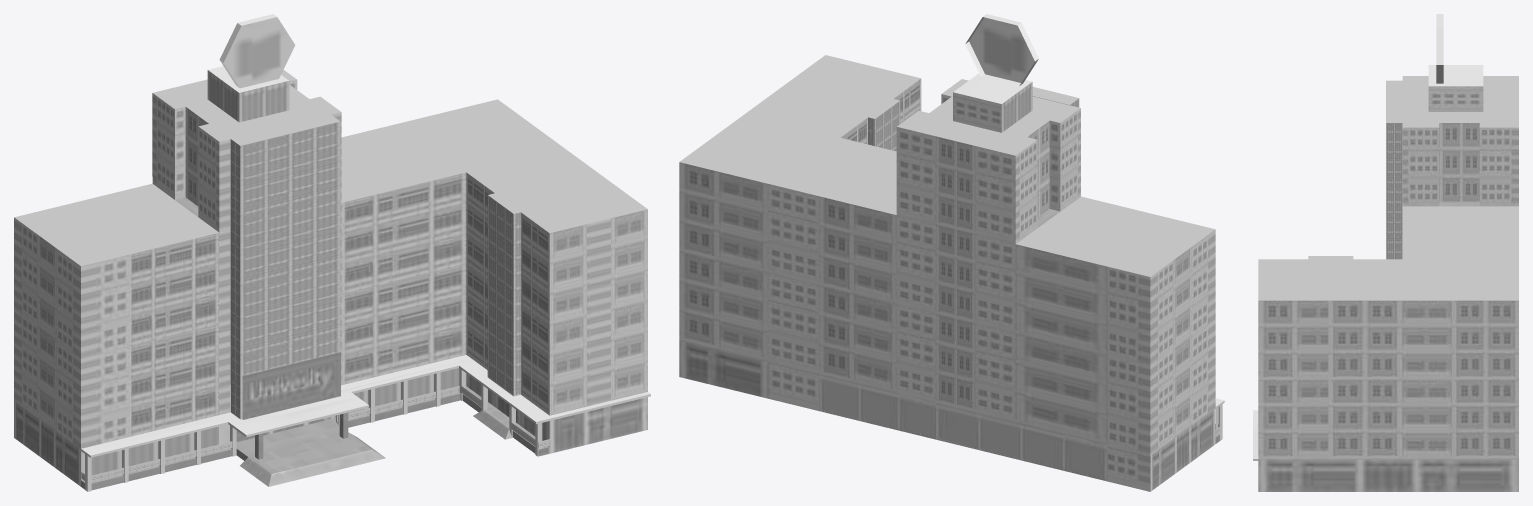
3 views of the same model, side by side, from view 1: azimuth 30°, elevation 25°; view 2: azimuth 150°, elevation 25°; view 3: azimuth 270°, elevation 25° (orthographic). The views are drawn at different scales.
Visible parts, largest first — view 1: 5b739370368c3649cc33515b.001; view 2: 5b739370368c3649cc33515b.001; view 3: 5b739370368c3649cc33515b.001.
Boxes of the visible parts, bbox=[...] form: 5b739370368c3649cc33515b.001: bbox=[14, 14, 650, 491]; 5b739370368c3649cc33515b.001: bbox=[679, 14, 1224, 491]; 5b739370368c3649cc33515b.001: bbox=[1253, 14, 1518, 491].
Bounding box in the file's own units: 67.36 × 53.64 × 36.96.
Materials: 1 (1 with a texture image).
